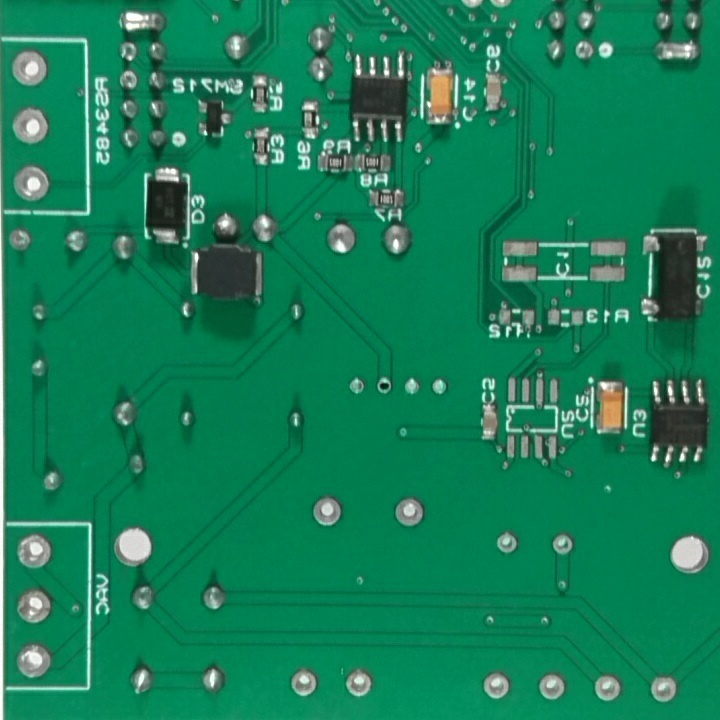F: (6, 44, 54, 90), (8, 106, 55, 149), (13, 640, 55, 683), (10, 162, 53, 203), (14, 587, 56, 628), (16, 531, 56, 572), (388, 495, 428, 532), (310, 492, 345, 533), (479, 668, 514, 705), (644, 672, 682, 706), (591, 670, 626, 706), (537, 669, 570, 706), (287, 665, 321, 700), (344, 666, 376, 703), (548, 530, 577, 558), (493, 529, 520, 559), (7, 227, 32, 255), (573, 40, 599, 65), (116, 69, 141, 92), (401, 375, 424, 398), (346, 373, 367, 397), (430, 375, 450, 399), (375, 378, 395, 397)
P: (650, 38, 704, 66), (116, 9, 170, 35)
